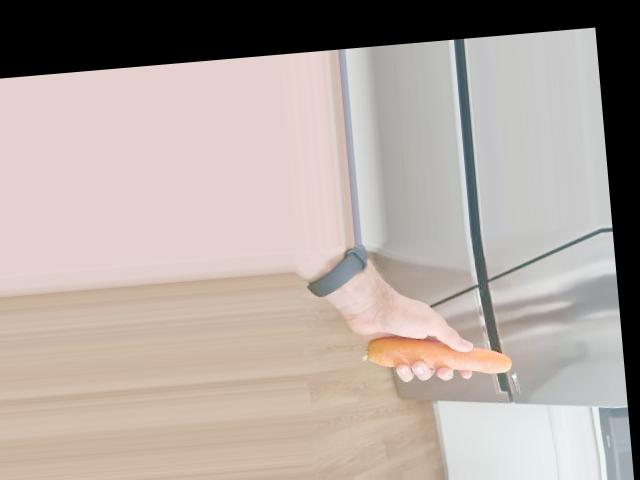carrot: (362, 324, 511, 387)
